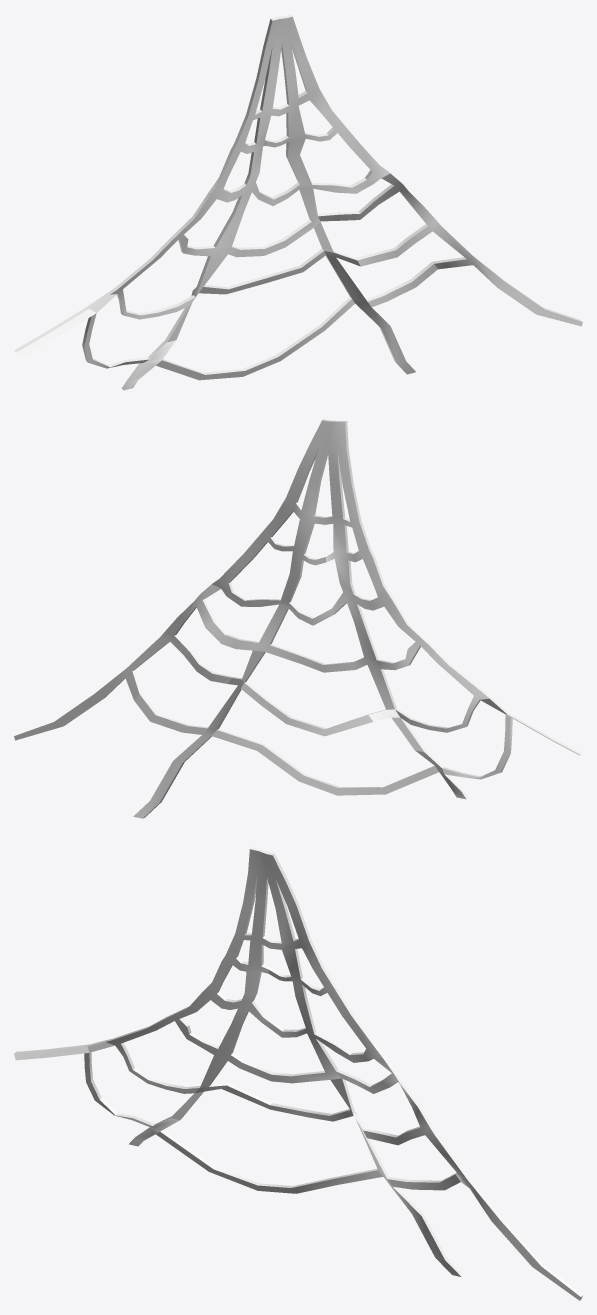
File: Spider_Web_01.glb
3 renders of one model, top to bottom at view 1: azimuth 30°, elevation 25°; view 2: azimuth 150°, elevation 25°; view 3: azimuth 330°, elevation 25°, orthographic. The views are drawn at different scales.
Visible parts, largest first — view 1: Spider_Web_01; view 2: Spider_Web_01; view 3: Spider_Web_01.
Part boxes in pixels (x1=…): Spider_Web_01: x1=14, y1=14, x2=582, y2=390; Spider_Web_01: x1=14, y1=419, x2=582, y2=818; Spider_Web_01: x1=14, y1=847, x2=582, y2=1300.
Size of the model in its own units: 0.8137 by 0.5726 by 0.0957.
Materials: 1 (1 with a texture image).
